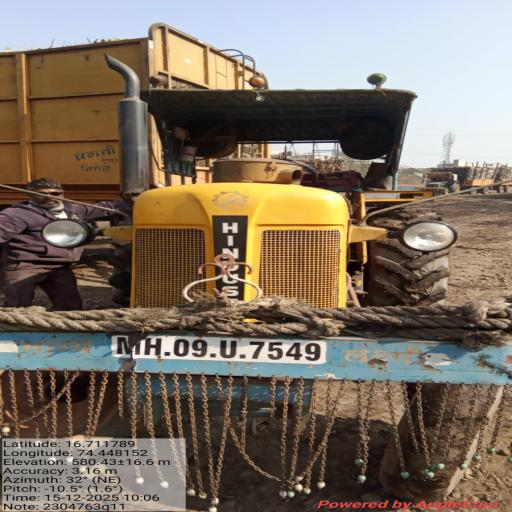number_plate: (96, 333, 352, 378)
